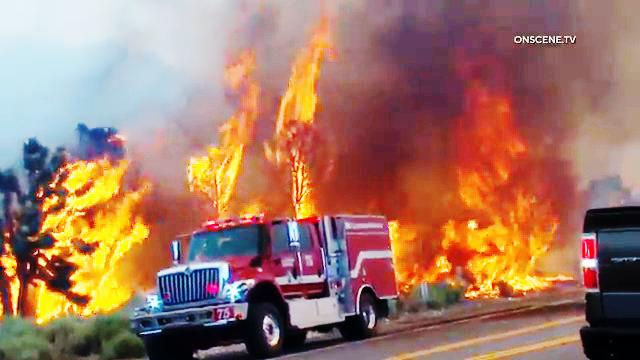fire: (9, 146, 151, 318), (448, 86, 563, 296), (261, 33, 324, 215), (177, 117, 243, 223)
